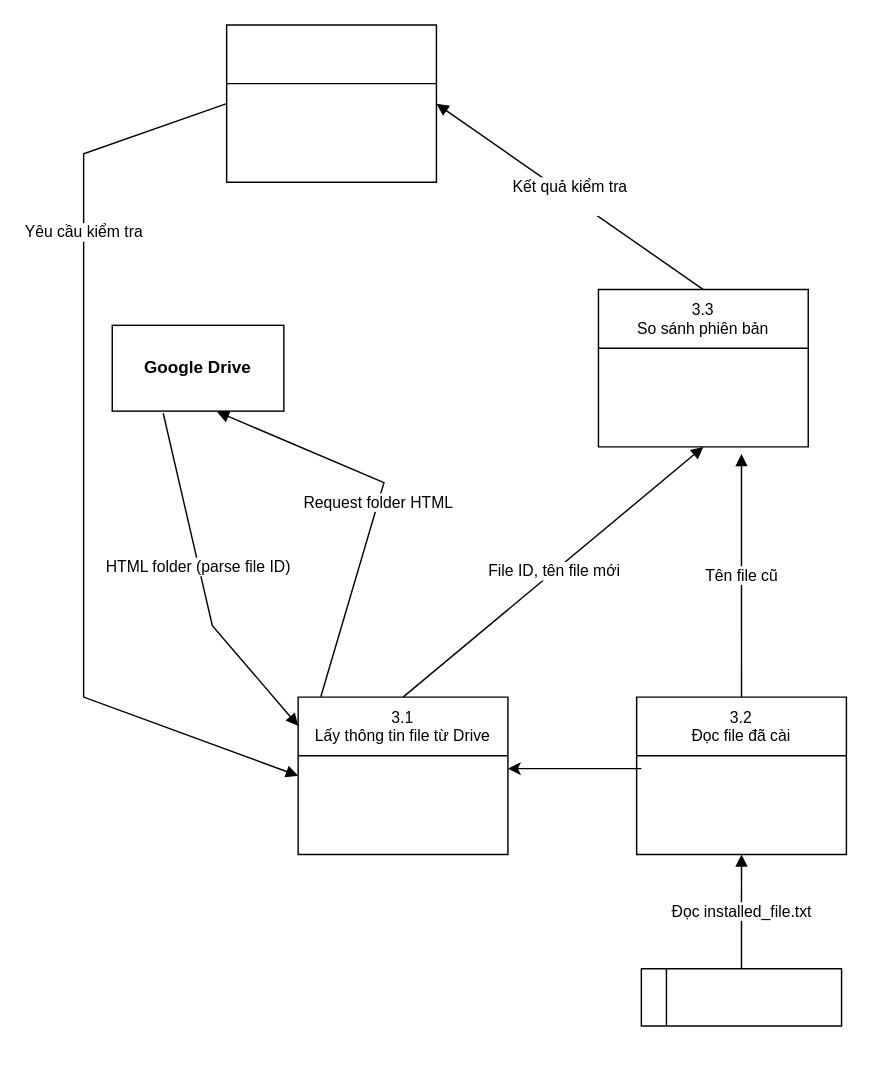
Some shapes in this 872 by 1065 pixel diagram are drawn without their labels. Here are the shapes that lost their labels. From the top down, the box of each, then its label:
(225, 24, 436, 182): 3.0 Kiểm tra cập nhật
(640, 967, 842, 1026): Thư mục cài đặt (installed_file.txt)
